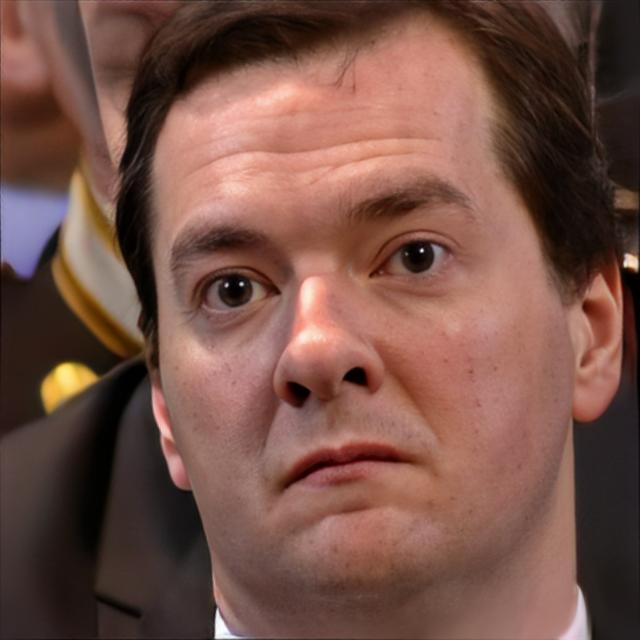fear: (151, 39, 568, 606)
